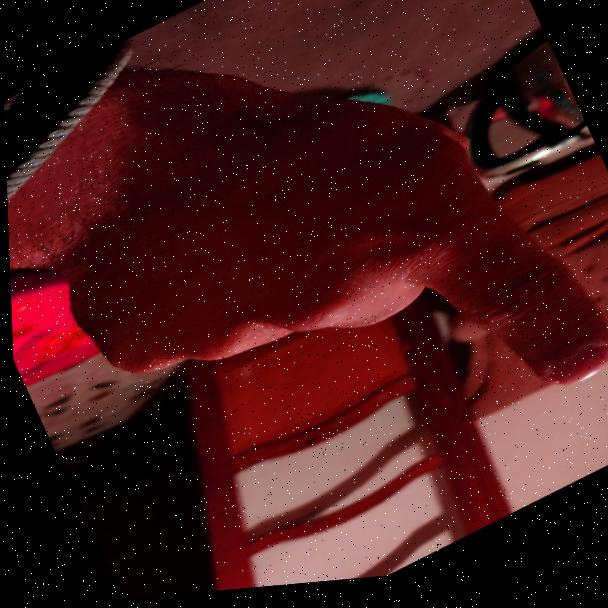one: (18, 0, 608, 597)
